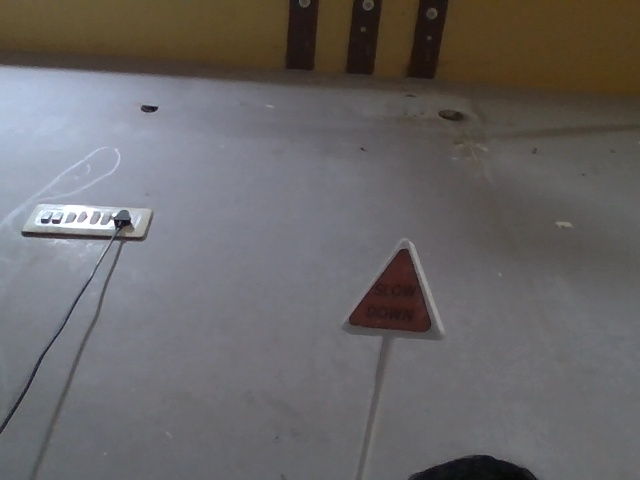slowdown: (337, 225, 445, 359)
